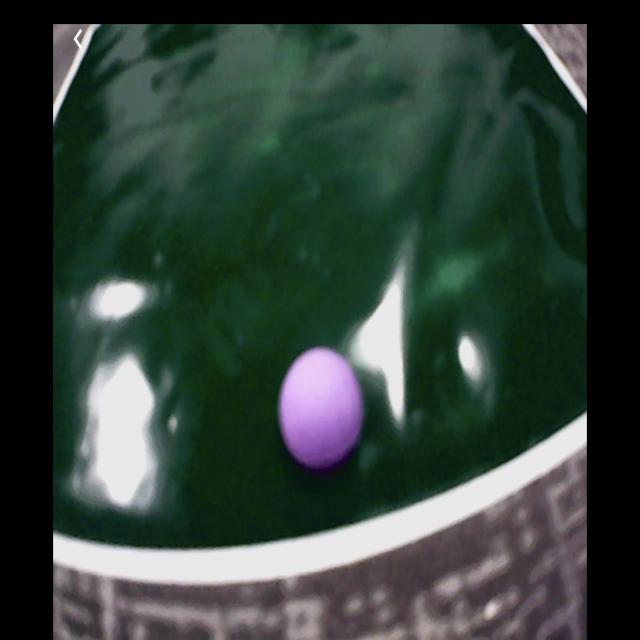ball: (277, 345, 366, 471)
